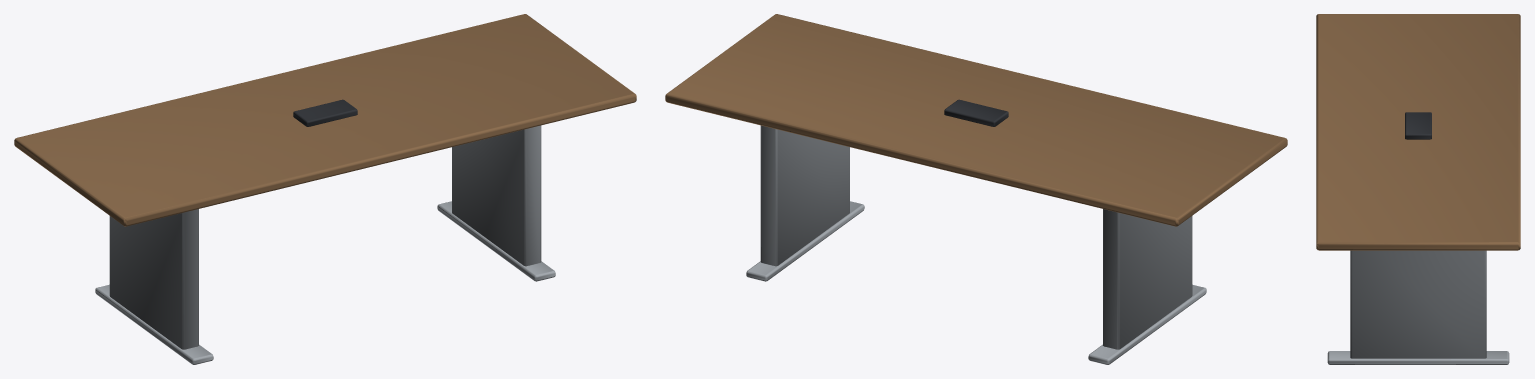
Rendered from meetingtable.glb.
The picture shows the model from 3 angles, left to right: view 1: azimuth 30°, elevation 25°; view 2: azimuth 150°, elevation 25°; view 3: azimuth 270°, elevation 25°; orthographic projection. The views are drawn at different scales.
Parts seen in each view (by area): view 1: TavoloRiunioni; view 2: TavoloRiunioni; view 3: TavoloRiunioni.
Part boxes in pixels (box(x1,y1,x2,y2)): TavoloRiunioni: box(14, 14, 636, 364); TavoloRiunioni: box(665, 14, 1287, 364); TavoloRiunioni: box(1316, 14, 1520, 364).
Size of the model in its own units: 2.4 by 0.785 by 0.902.
